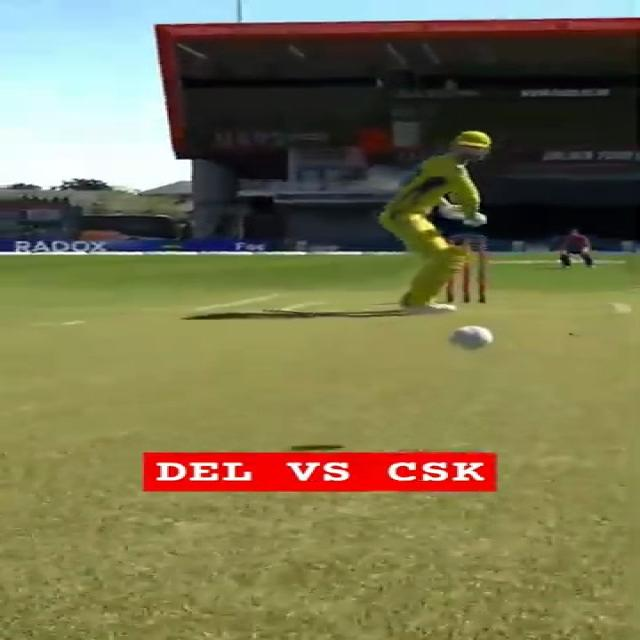ball: (444, 324, 494, 350)
